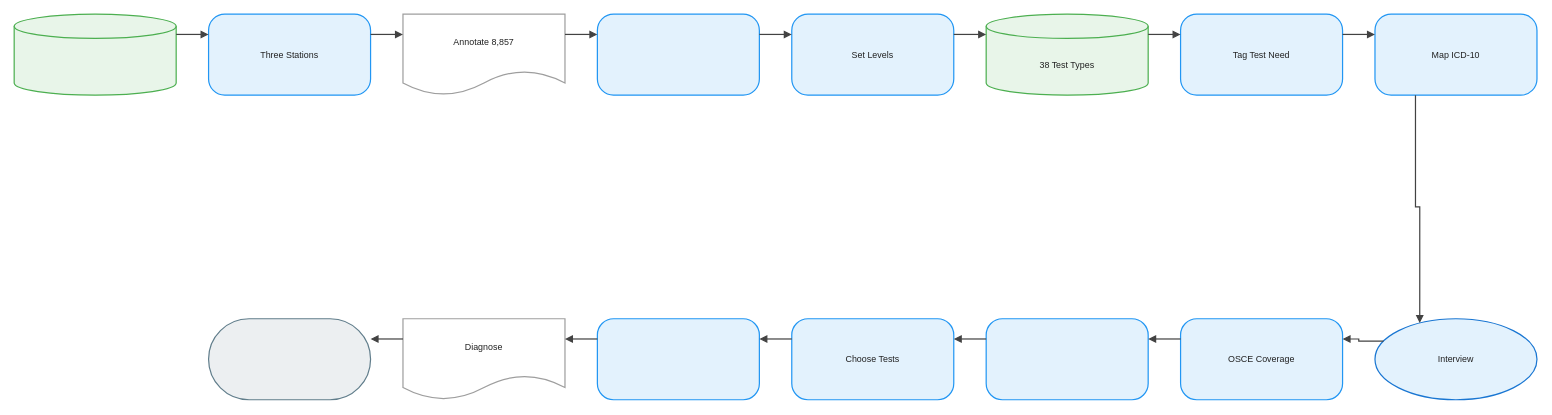
Image size: 1552x415. Some labels were removed from this diagram. Each missing label, with the centre of its shape:
"Collect 303" belongs at [94,54].
"Group History" belongs at [678,54].
"ICD-10 Report" belongs at [289,359].
"Score SCAN" belongs at [1066,359].
"Weighted F1" belongs at [678,359].
